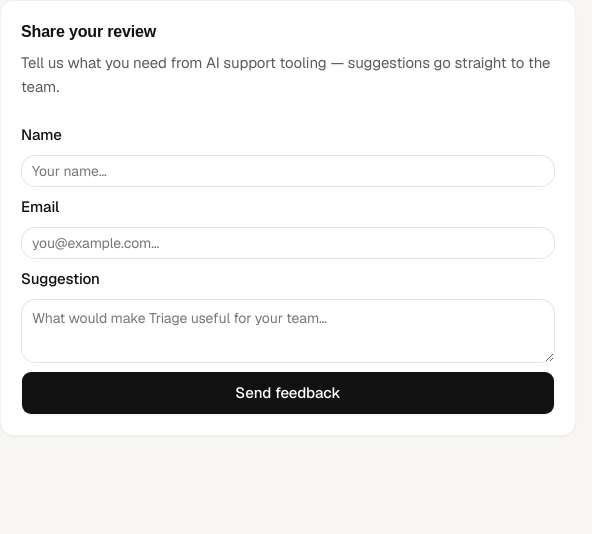
Test: shows validation errors when fields are empty
Click the button "Send feedback" at (288, 393), box [21,371,555,415]
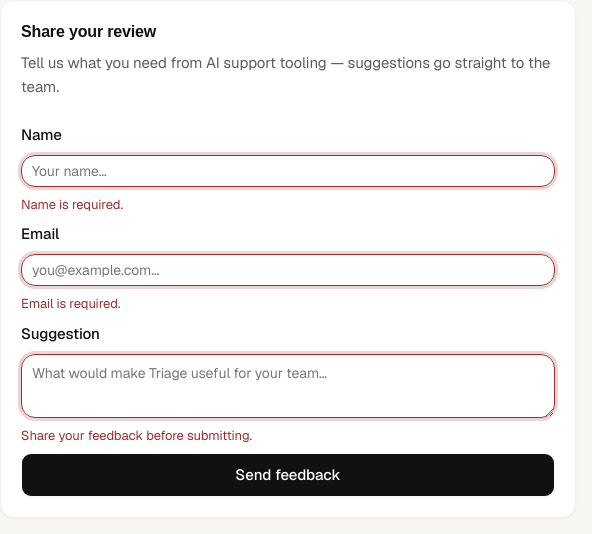
expect the text "Name is required." is shown: met, box [21,196,123,213]
expect the text "Email is required." is shown: met, box [21,295,120,312]
expect the text "Share your feedback before submitting." is shown: met, box [21,427,252,444]
